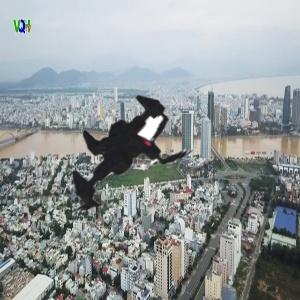drone: (27, 60, 232, 265)
